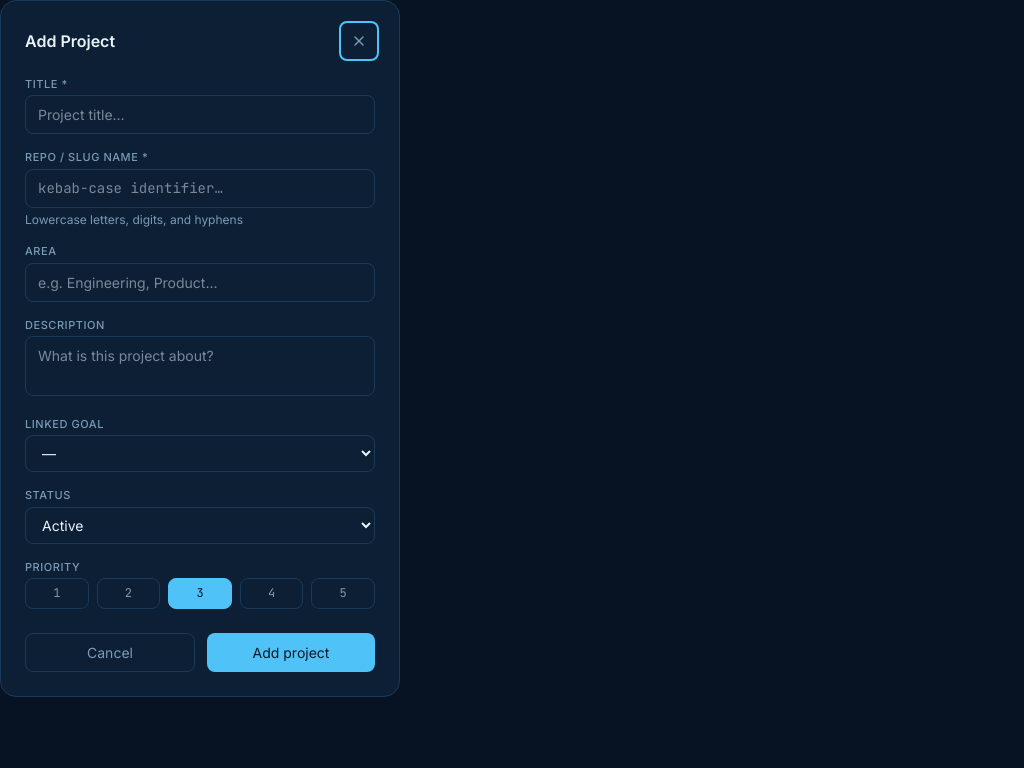
Scenario: ProjectModal — Create mode › shows required errors for title and slug on empty submit
The image size is (1024, 768).
Click the button "Add project": [291, 652] box 207,633 -> 375,672
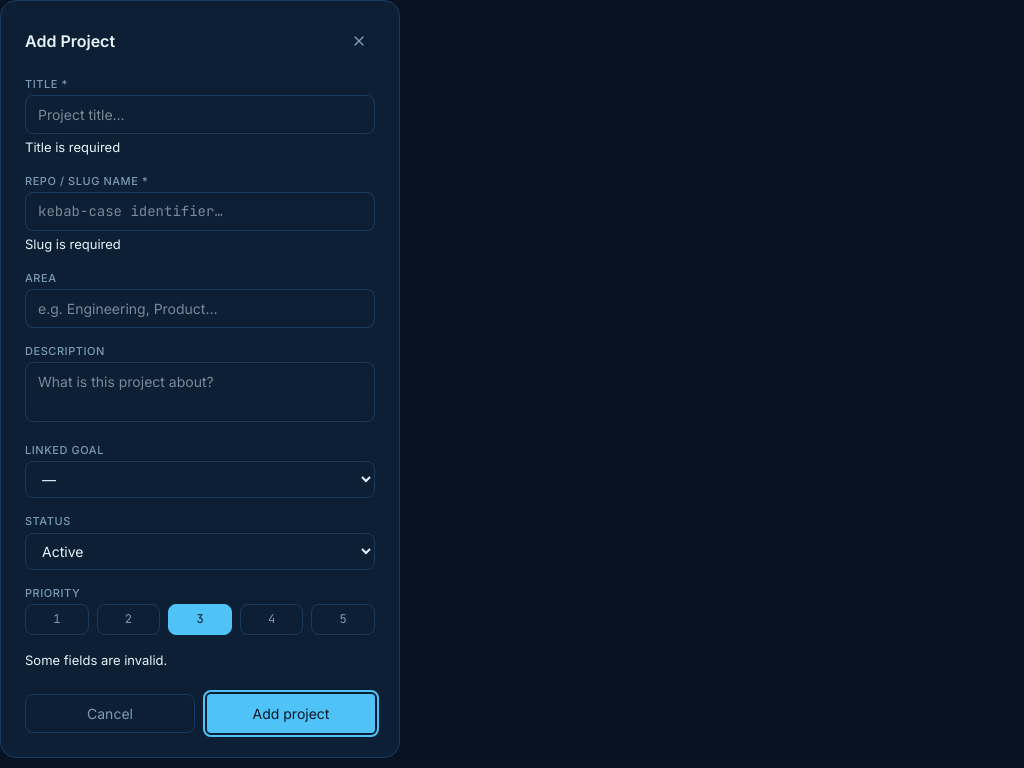
Now the text "Title is required" is shown, box 25,139 -> 120,155
Now the text "Slug is required" is shown, box 25,236 -> 121,252
